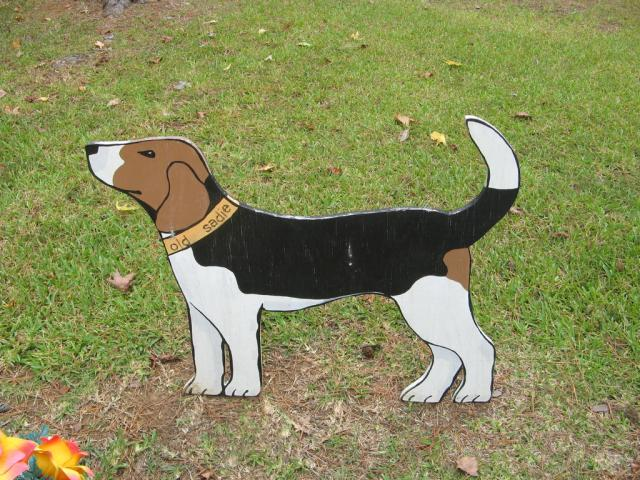Dog: (84, 113, 524, 404)
